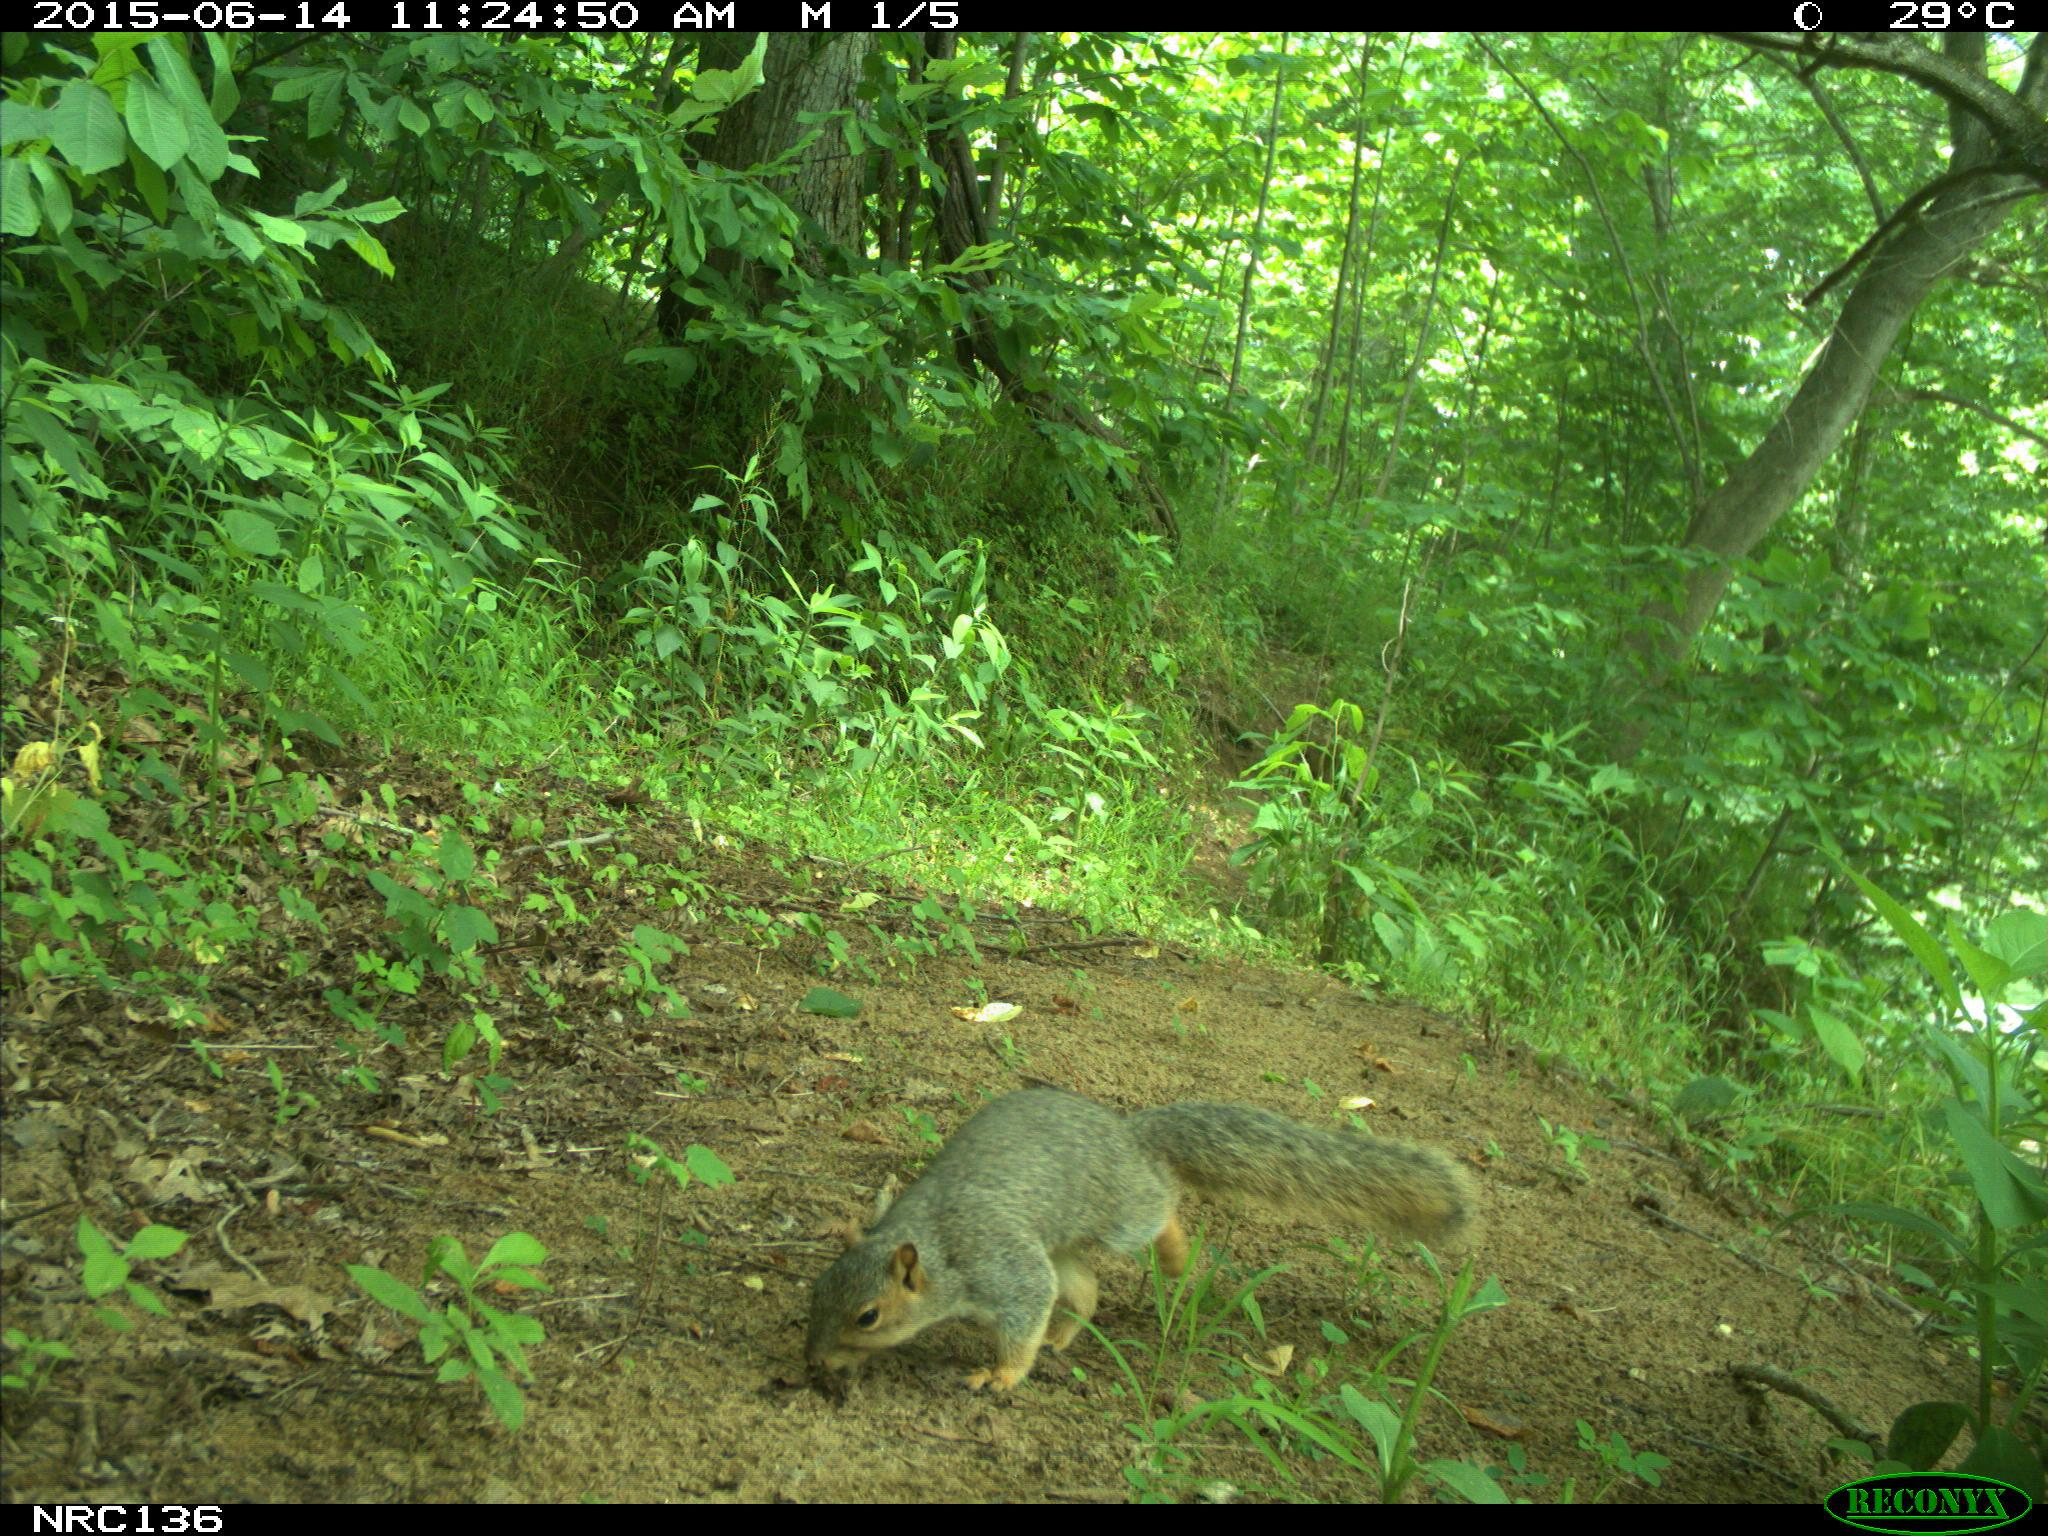Animal: (813, 1091, 1479, 1420)
